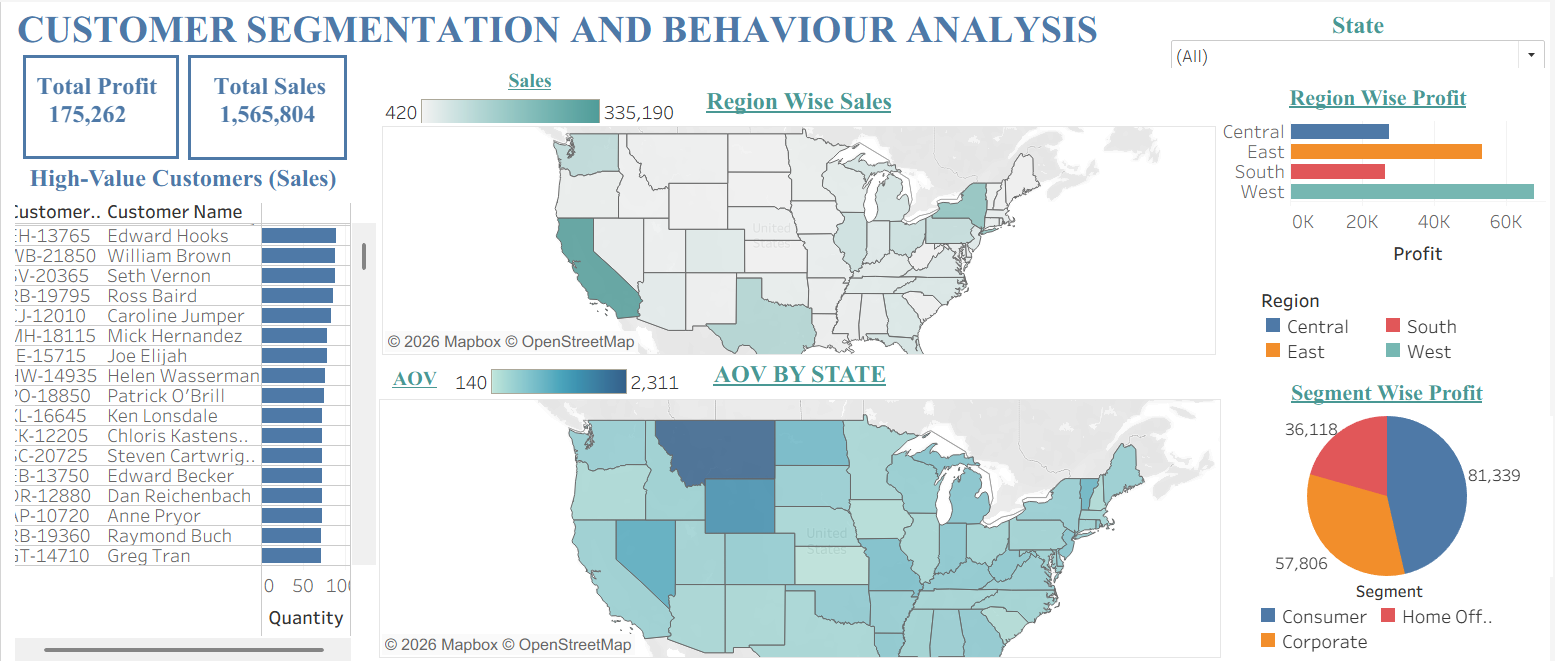

The page's visual inventory and layout, read from the dashboard file:
{"tool":"tableau","page":{"name":"Dashboard 1","canvas":[1000,1000],"units":"permille","ordinal":0},"visuals":[{"type":"title","box":[5.2,12.1,989.7,60.6]},{"type":"filter","title":"region wise sales","param":"[federated.09hgkku1ncxm681gydwuc0f0y9um].[none:State:nk]","box":[752.9,15.2,245.2,84.9]},{"type":"worksheet","title":"total profit","mark":"Text","box":[14.2,80.3,100.7,157.6]},{"type":"worksheet","title":"total sales","mark":"Text","box":[120.7,80.3,102.6,159.1]},{"type":"legend","title":"region wise sales","param":"[federated.09hgkku1ncxm681gydwuc0f0y9um].[sum:Sales:qk]","box":[245.2,101.5,192.3,81.8]},{"type":"worksheet","title":"region wise profit","mark":"Automatic","rows":["Region"],"cols":["Profit"],"box":[780,119.7,216.8,481.8]},{"type":"worksheet","title":"region wise sales","mark":"Automatic","box":[245.8,124.2,538.1,410.6]},{"type":"worksheet","title":"valuable customer","mark":"Automatic","rows":["Customer ID","Customer Name"],"cols":["Quantity"],"box":[9,240.9,232.9,759.1]},{"type":"legend","title":"region wise profit","param":"[federated.09hgkku1ncxm681gydwuc0f0y9um].[none:Region:nk]","box":[812.9,431.8,160.7,121.2]},{"type":"worksheet","title":"AOV BY STATE","mark":"Automatic","box":[243.9,537.9,543.2,456.1]},{"type":"legend","title":"AOV BY STATE","param":"[federated.09hgkku1ncxm681gydwuc0f0y9um].[usr:Calculation_2841990049071106:qk]","box":[243.9,550,196.8,63.6]},{"type":"legend","title":"segment wise profit","param":"[federated.09hgkku1ncxm681gydwuc0f0y9um].[none:Segment:nk]","box":[809.7,875.8,172.3,121.2]}]}

Visuals, with their boxes on the dashboard's canvas, which has no fixed pixel size, in thousandths of its width and height (x1, y1, x2, y2). These are canvas units, not pixel positions in the 1555x661 screenshot, which may show the page scaled, cropped or inside an application window:
title: pyautogui.locateOnScreen(5, 12, 995, 73)
"region wise sales" filter: pyautogui.locateOnScreen(753, 15, 998, 100)
"total profit" worksheet (Text marks): pyautogui.locateOnScreen(14, 80, 115, 238)
"total sales" worksheet (Text marks): pyautogui.locateOnScreen(121, 80, 223, 239)
"region wise sales" legend: pyautogui.locateOnScreen(245, 102, 438, 183)
"region wise profit" worksheet: pyautogui.locateOnScreen(780, 120, 997, 602)
"region wise sales" worksheet: pyautogui.locateOnScreen(246, 124, 784, 535)
"valuable customer" worksheet: pyautogui.locateOnScreen(9, 241, 242, 1000)
"region wise profit" legend: pyautogui.locateOnScreen(813, 432, 974, 553)
"AOV BY STATE" worksheet: pyautogui.locateOnScreen(244, 538, 787, 994)
"AOV BY STATE" legend: pyautogui.locateOnScreen(244, 550, 441, 614)
"segment wise profit" legend: pyautogui.locateOnScreen(810, 876, 982, 997)
